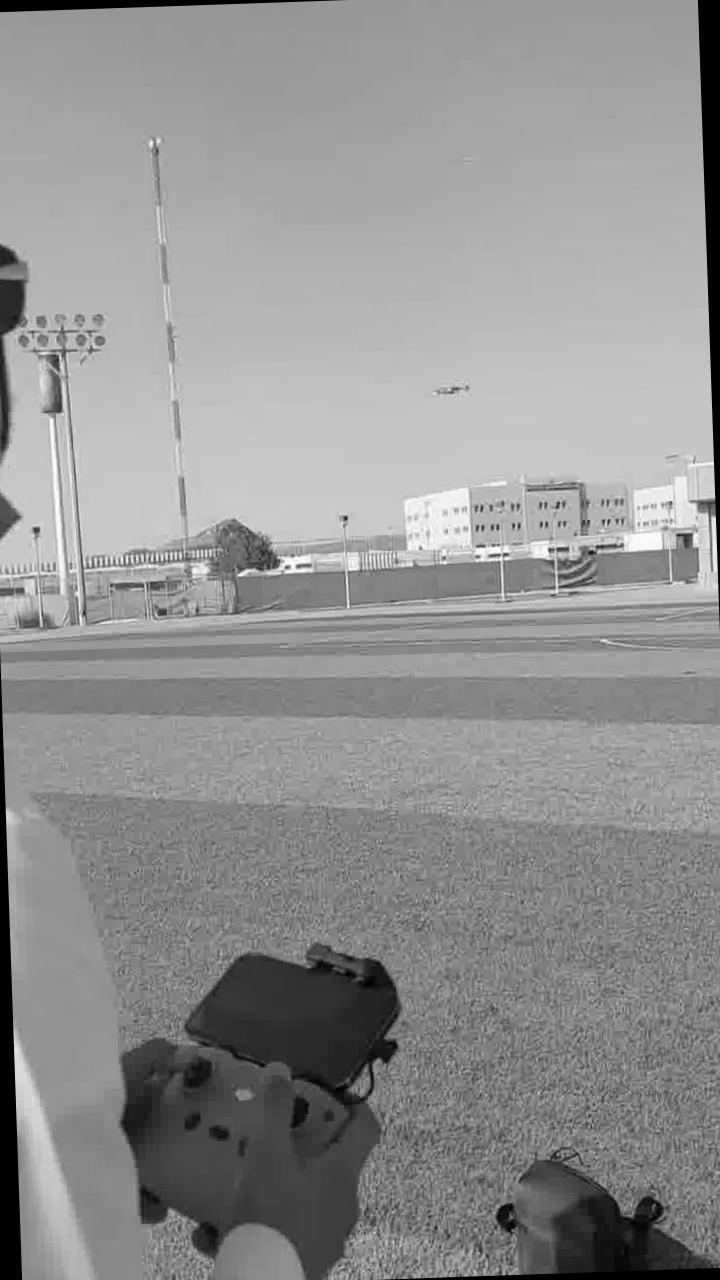drone: (424, 372, 481, 406)
